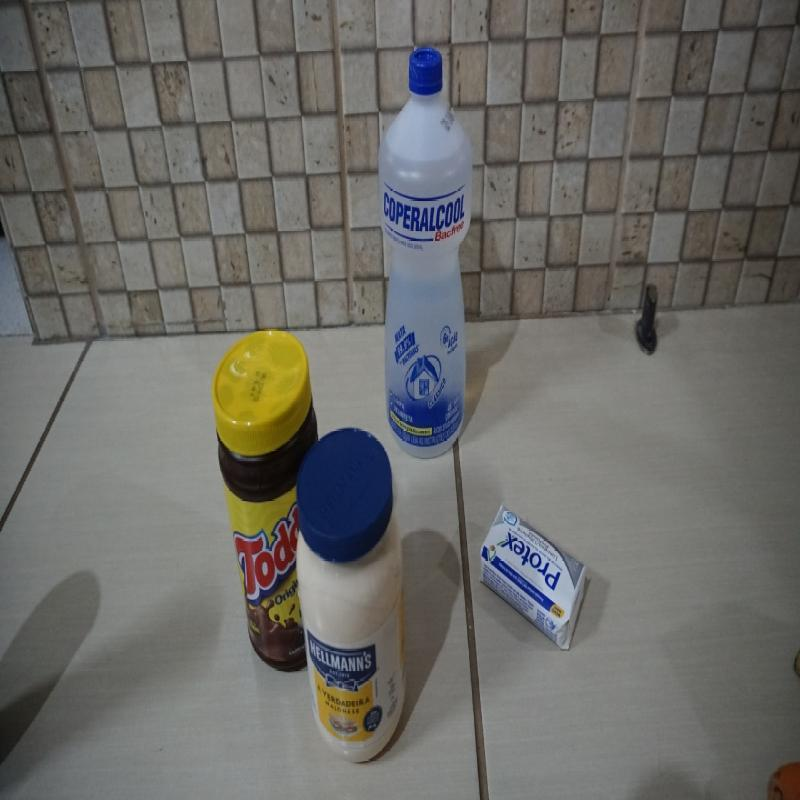Alcohol Bottle: (379, 45, 473, 450)
Chocolate Powder: (210, 332, 316, 668)
Mayonnaise: (298, 428, 404, 762)
Soap: (480, 502, 586, 648)
